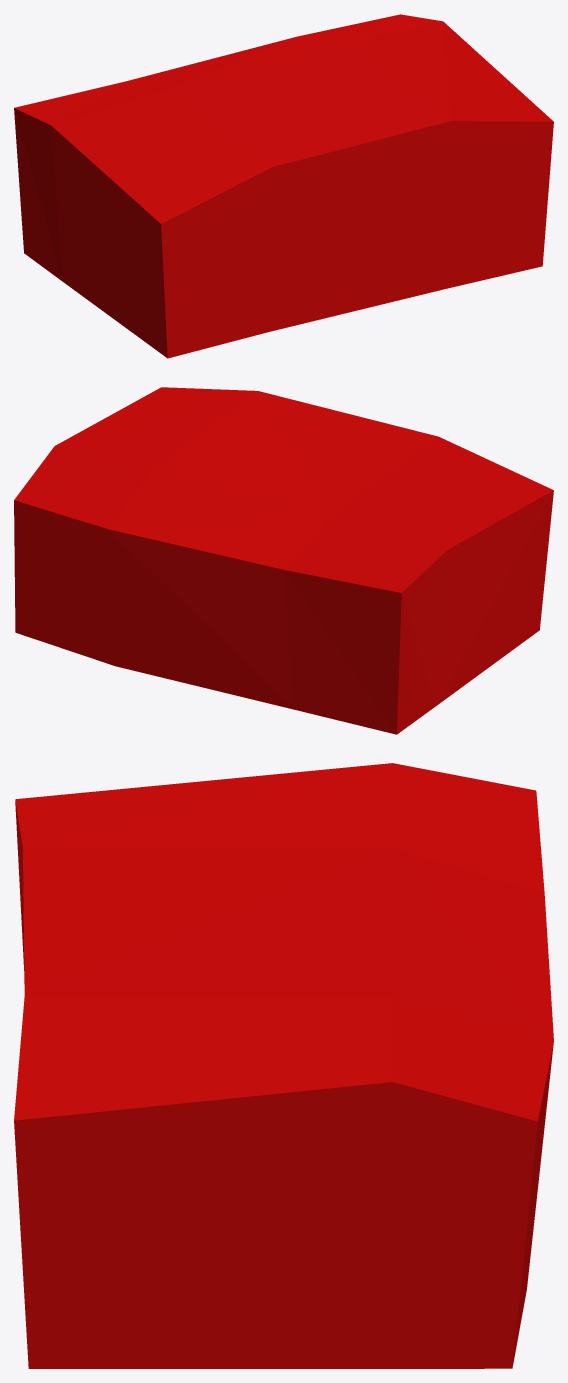
3 renders of one model, top to bottom at view 1: azimuth 30°, elevation 25°; view 2: azimuth 150°, elevation 25°; view 3: azimuth 270°, elevation 25°, orthographic. The views are drawn at different scales.
Parts seen in each view (by area): view 1: Mesh; view 2: Mesh; view 3: Mesh.
Part boxes in pixels (x1,y1,x2,y2): Mesh: (14, 14, 553, 358); Mesh: (14, 387, 553, 734); Mesh: (14, 763, 553, 1368).
Size of the model in its own units: 1.23 by 0.5013 by 0.8313.
